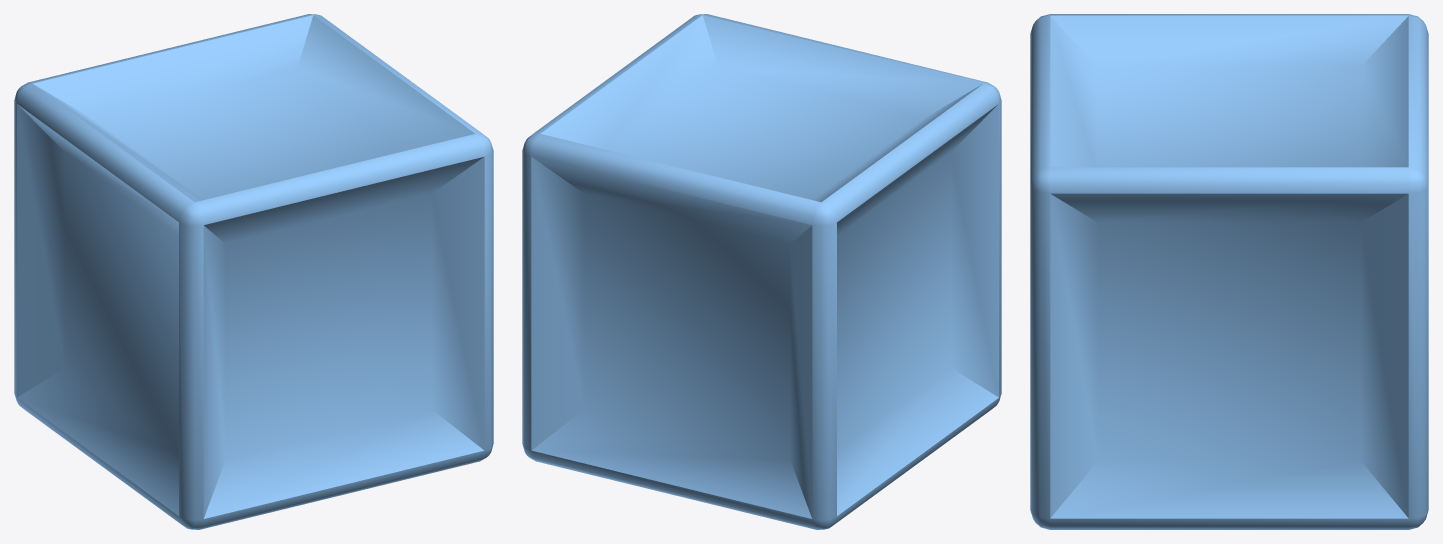
The model's file is framed.glb.
3 renders of one model, left to right at view 1: azimuth 30°, elevation 25°; view 2: azimuth 150°, elevation 25°; view 3: azimuth 270°, elevation 25°, orthographic. The views are drawn at different scales.
Visible parts, largest first — view 1: block_framed; view 2: block_framed; view 3: block_framed.
Part boxes in pixels (left/top/right/bottom): block_framed: left=14, top=14, right=493, bottom=529; block_framed: left=522, top=14, right=1001, bottom=529; block_framed: left=1030, top=14, right=1428, bottom=529.
Size of the model in its own units: 1 by 1 by 1.
